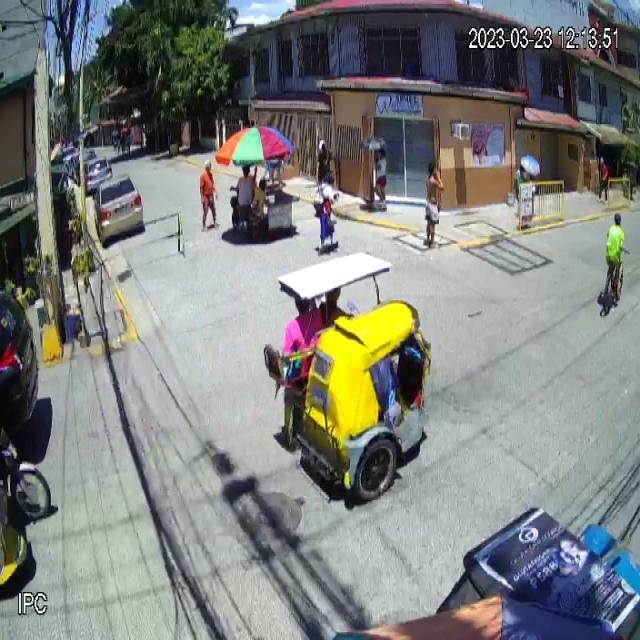Tricycle: (262, 250, 434, 506)
